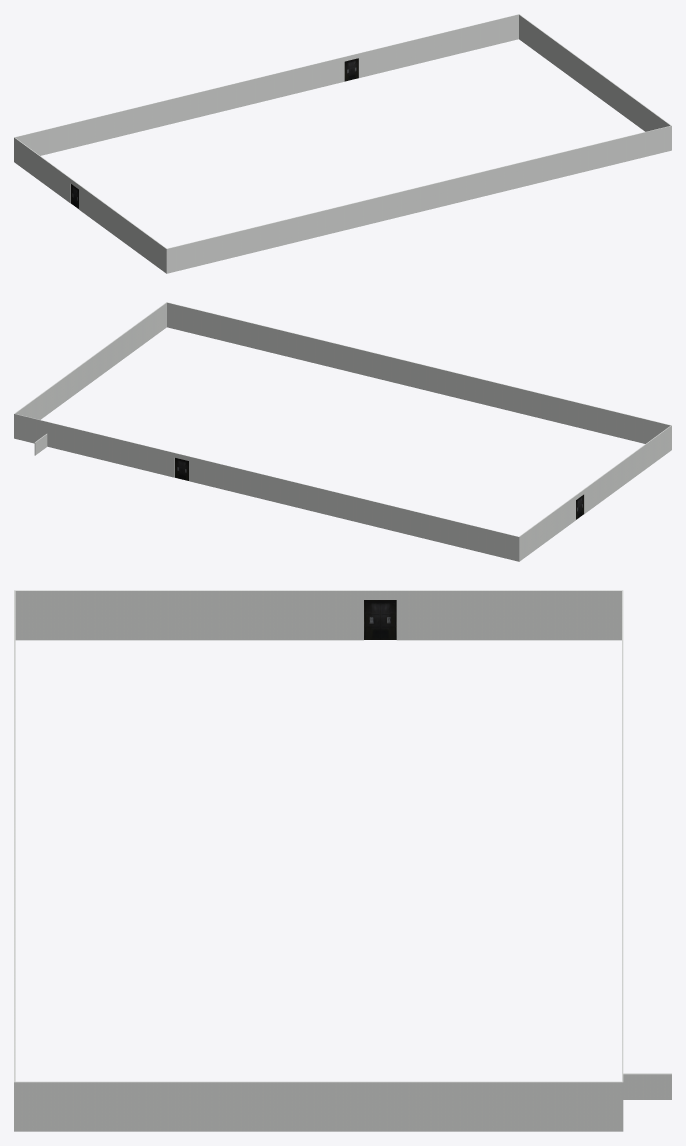
Rendered from SM_Qiang03.FBX.
3 renders of one model, top to bottom at view 1: azimuth 30°, elevation 25°; view 2: azimuth 150°, elevation 25°; view 3: azimuth 270°, elevation 25°, orthographic. The views are drawn at different scales.
Visible parts, largest first — view 1: SM_Qiang; view 2: SM_Qiang; view 3: SM_Qiang.
Boxes of the visible parts, <box> form: SM_Qiang: <box>14,14,671,273</box>; SM_Qiang: <box>14,302,671,561</box>; SM_Qiang: <box>14,590,671,1131</box>.
Size of the model in its own units: 15947 by 745 by 9011.
Materials: 2 (2 with a texture image).
